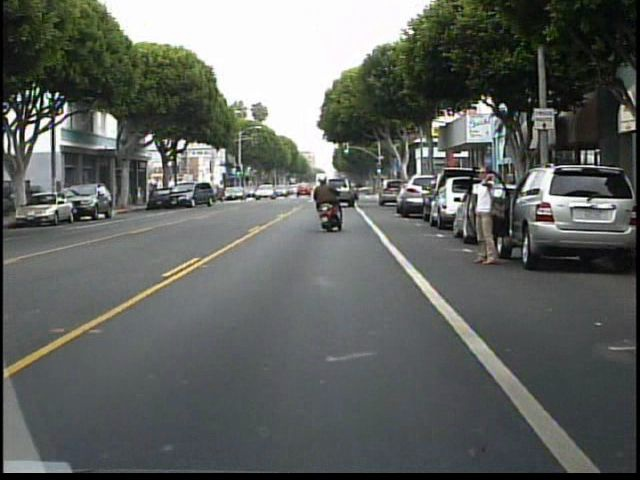person: (470, 161, 499, 266), (307, 171, 347, 231)
